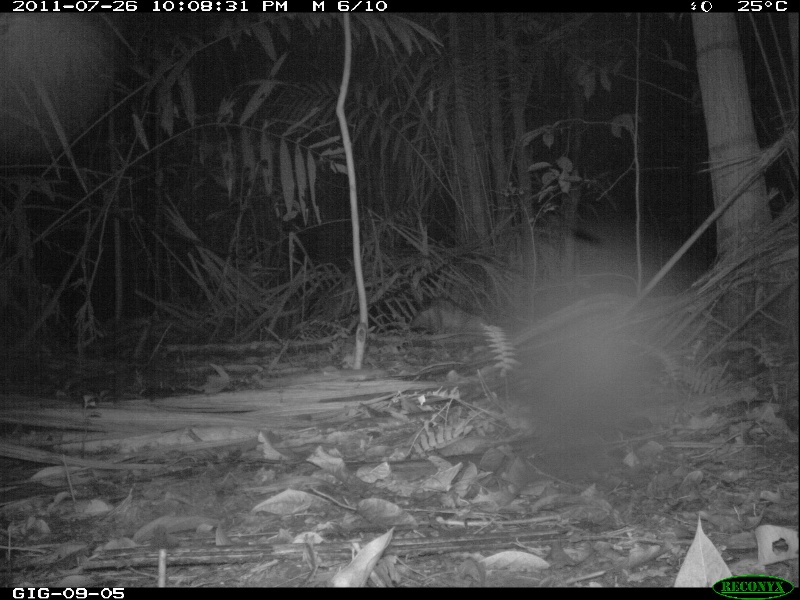opossum: (403, 300, 491, 338)
